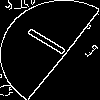I: (25, 25, 78, 63)
